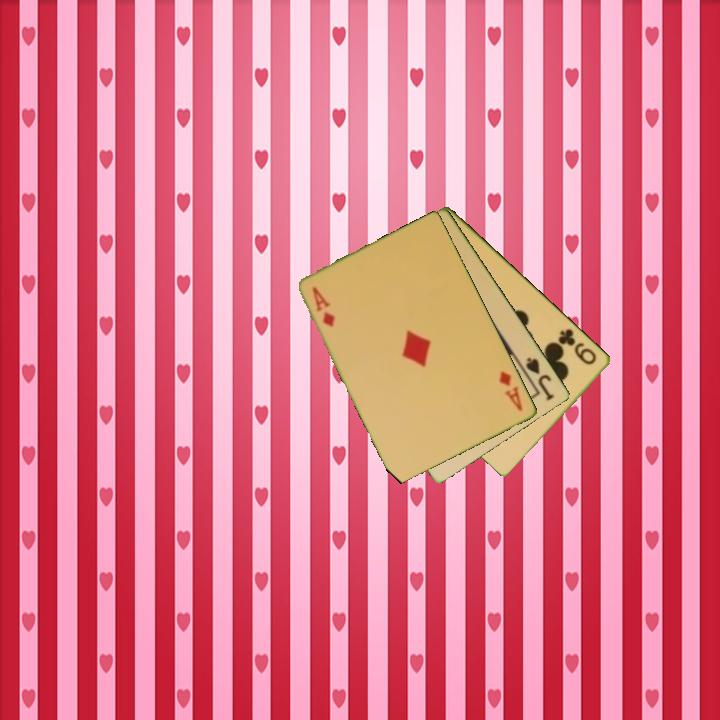9c: (555, 325, 600, 368)
Ad: (496, 367, 526, 414), (309, 283, 338, 330)
Js: (522, 353, 558, 404)
